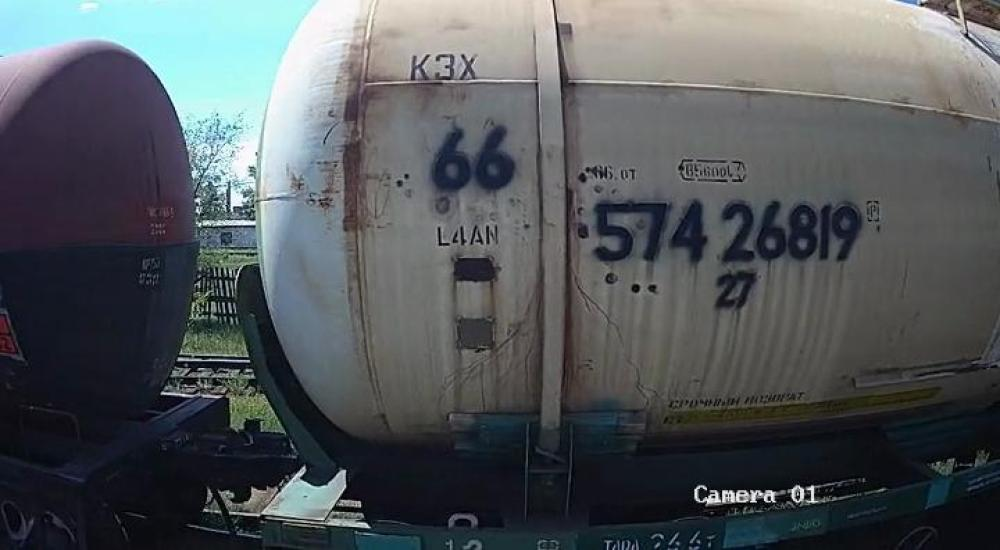Wagon-number: (588, 195, 865, 271)
